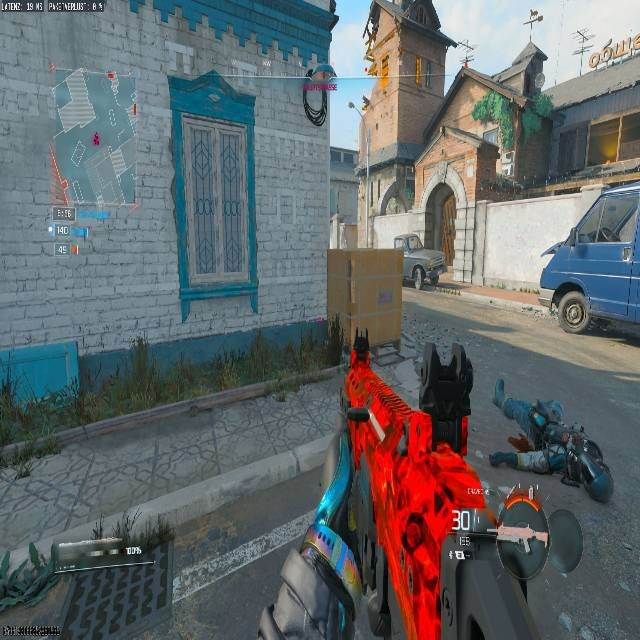head: (529, 401, 561, 437)
player: (490, 388, 611, 502)
